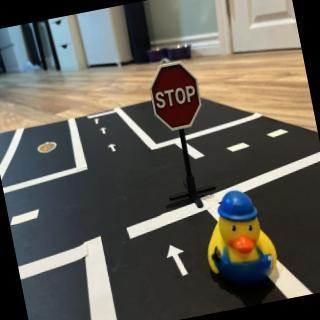duck_specialty: (195, 184, 283, 295)
road_oneway: (165, 241, 193, 281), (107, 142, 120, 157), (100, 126, 109, 137), (94, 116, 103, 127)
sign_stop: (147, 61, 207, 134)
